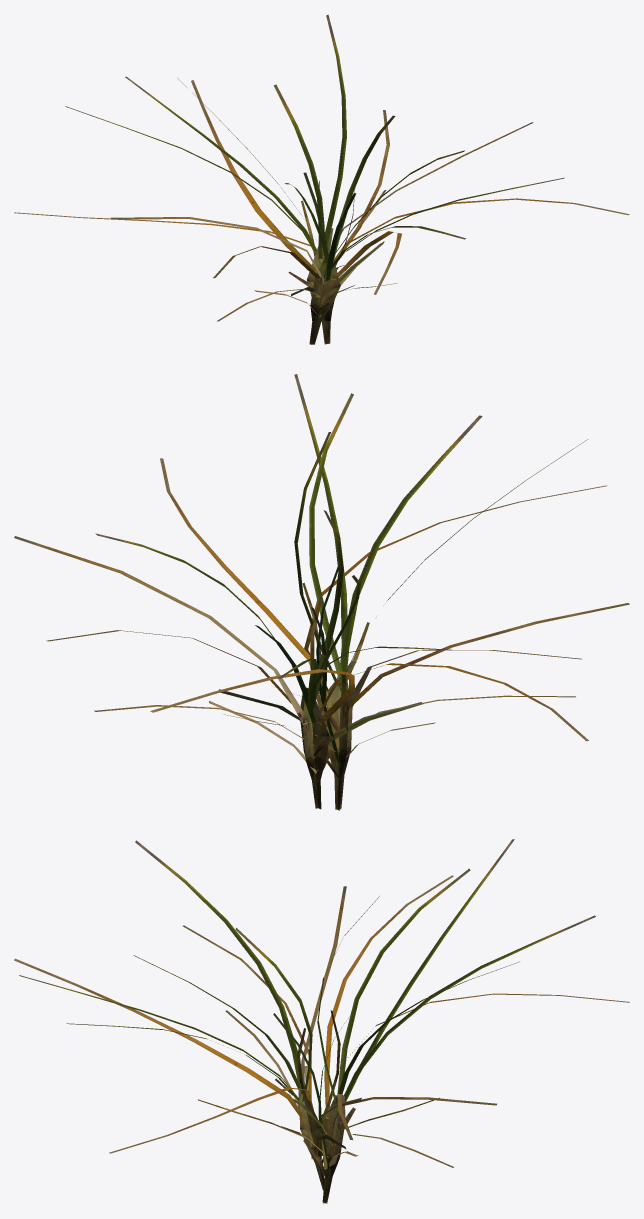
Rendered from Rumput 4.fbx.
3 views of the same model, one above another, from view 1: azimuth 30°, elevation 25°; view 2: azimuth 150°, elevation 25°; view 3: azimuth 270°, elevation 25° (orthographic). The views are drawn at different scales.
Visible parts, largest first — view 1: rumput 4; view 2: rumput 4; view 3: rumput 4.
Part boxes in pixels (bbox=[...]): rumput 4: bbox=[14, 14, 629, 344]; rumput 4: bbox=[14, 374, 629, 810]; rumput 4: bbox=[14, 839, 629, 1203].
Bounding box in the file's own units: 45.49 × 22.8 × 43.52.
